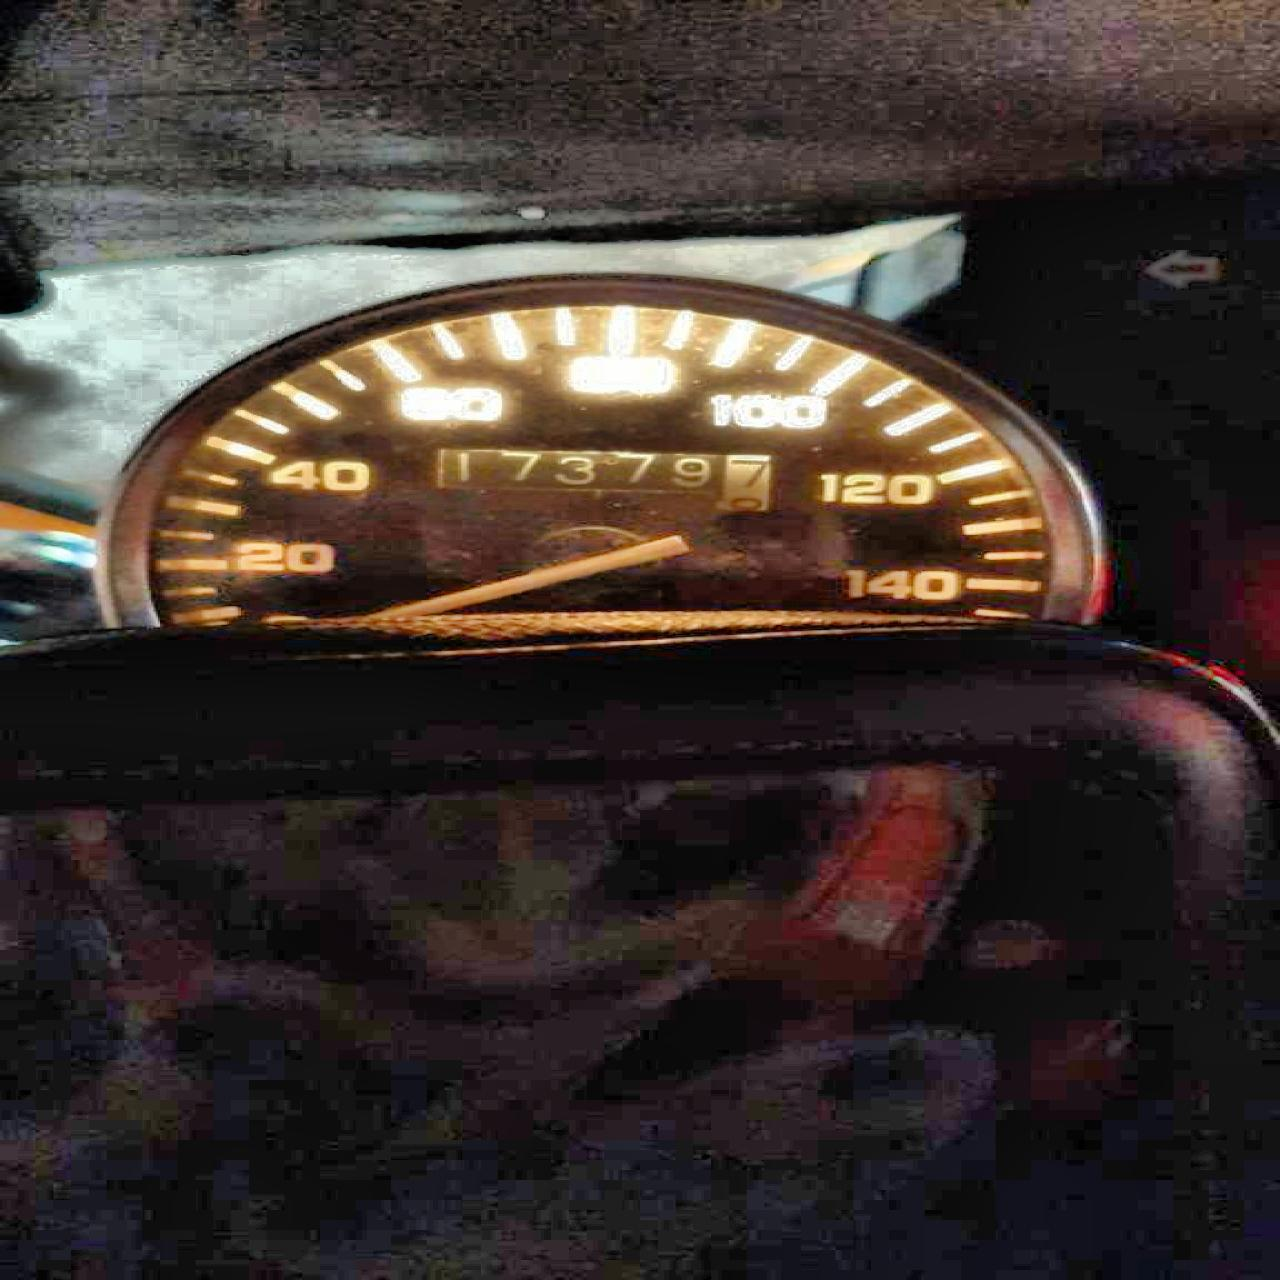1: (449, 445, 482, 490)
3: (549, 454, 595, 486)
7: (496, 447, 543, 482), (727, 452, 771, 489), (611, 449, 655, 483)
9: (672, 455, 716, 489)
odometer: (424, 435, 799, 523)
